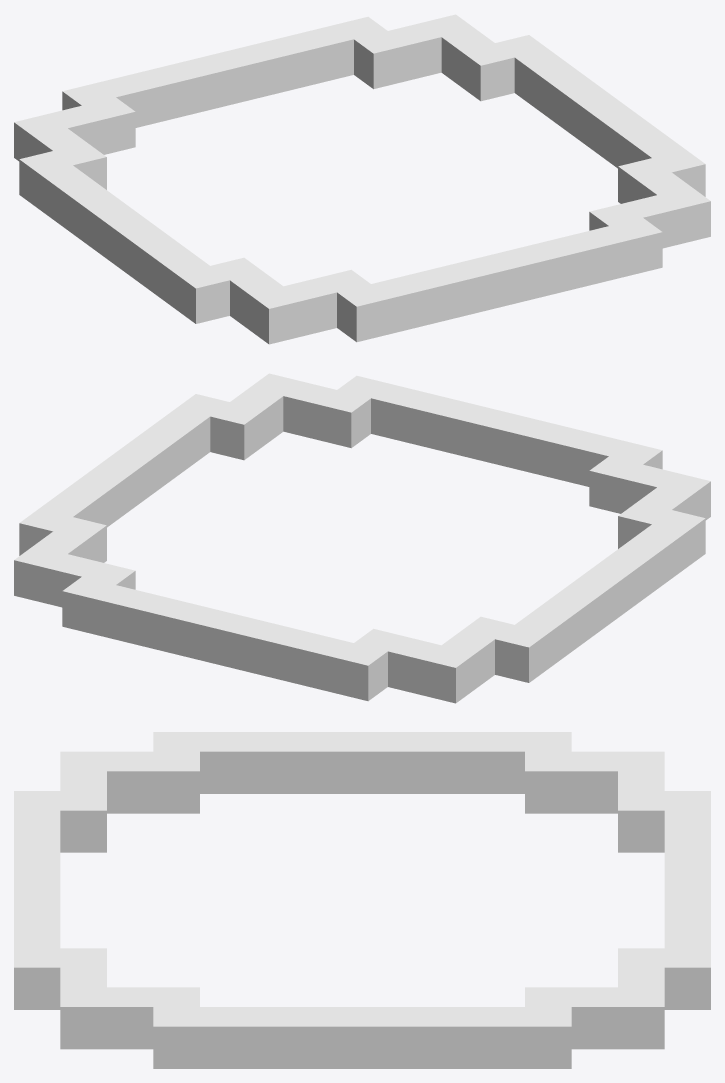
File: TeamCircle.obj
3 views of the same model, one above another, from view 1: azimuth 30°, elevation 25°; view 2: azimuth 150°, elevation 25°; view 3: azimuth 270°, elevation 25° (orthographic). The views are drawn at different scales.
Size of the model in its own units: 1.5 by 0.1 by 1.5.
Materials: 1 (1 with a texture image).
